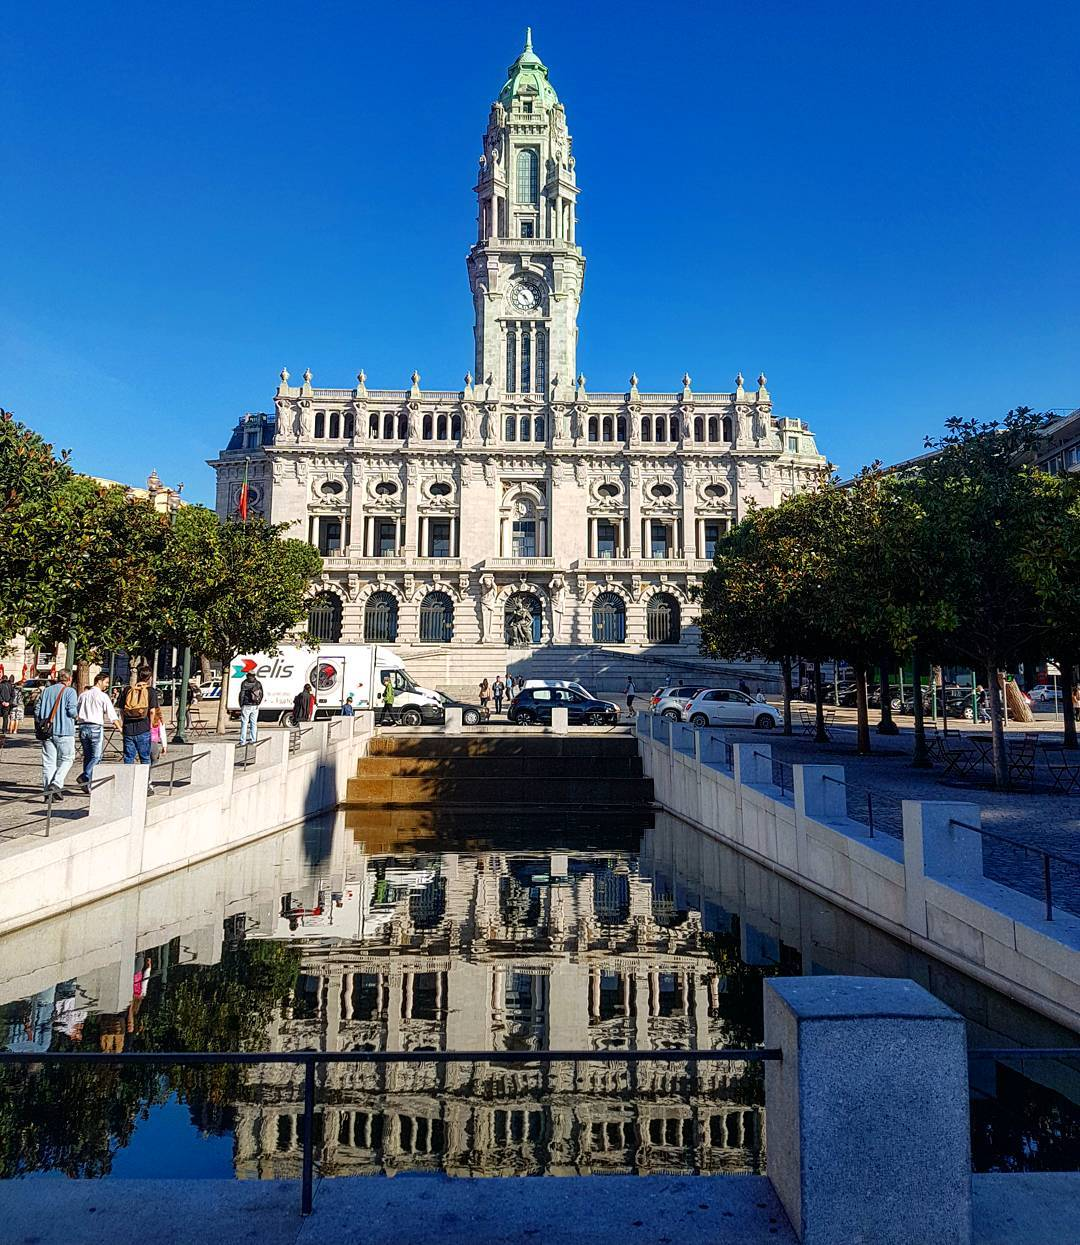camara: (201, 20, 838, 650)
